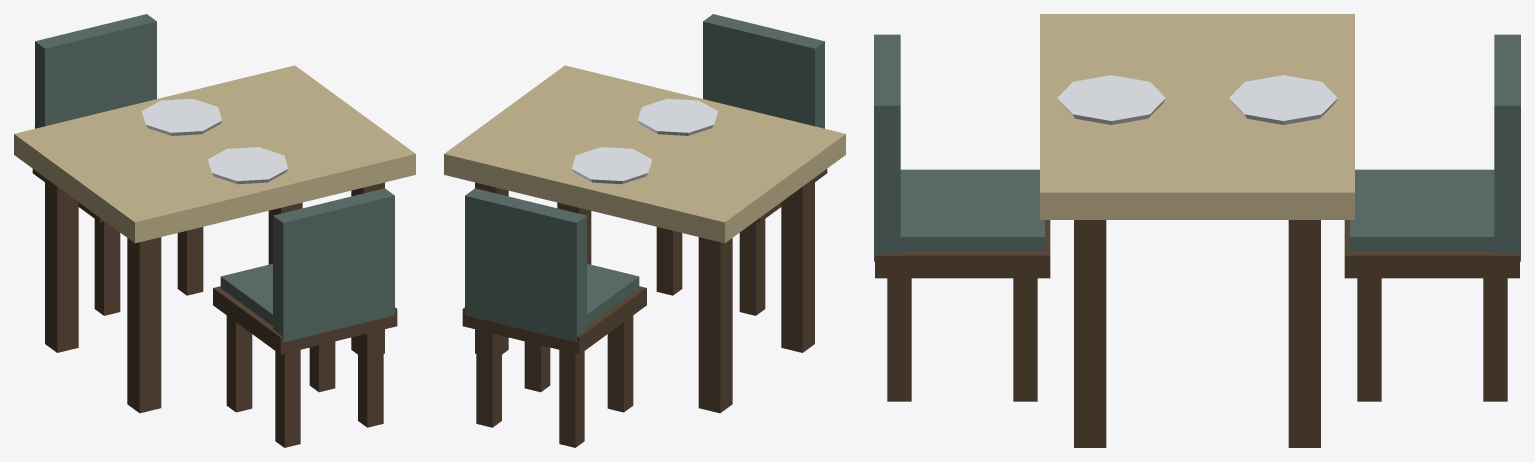
File: prop-dining-table.glb
3 renders of one model, left to right at view 1: azimuth 30°, elevation 25°; view 2: azimuth 150°, elevation 25°; view 3: azimuth 270°, elevation 25°, orthographic. The views are drawn at different scales.
Parts seen in each view (by area): view 1: timber_tabletop, chair_back_-1, chair_back_1, table_leg_-0.235_-0.15, table_leg_-0.235_0.15, chair_seat_-1, chair_leg_-1_-0.087_-0.088, chair_leg_-1_0.087_-0.088, chair_leg_1_-0.087_-0.088, place_setting_1, place_setting_-1, chair_leg_-1_-0.087_0.088 (+4 smaller); view 2: timber_tabletop, chair_back_1, chair_back_-1, table_leg_-0.235_0.15, table_leg_-0.235_-0.15, chair_seat_1, chair_leg_1_-0.087_0.088, chair_leg_1_0.087_0.088, chair_leg_-1_-0.087_0.088, place_setting_-1, place_setting_1, chair_leg_1_-0.087_-0.088 (+4 smaller); view 3: timber_tabletop, seat_pad_-1, seat_pad_1, table_leg_0.235_-0.15, table_leg_0.235_0.15, chair_back_-1, chair_back_1, chair_seat_-1, chair_seat_1, place_setting_-1, place_setting_1, chair_leg_-1_0.087_-0.088 (+3 smaller).
Boxes of the visible parts, box(x1,y1,x2,y2) form: timber_tabletop: box(14, 65, 415, 243); chair_back_-1: box(273, 188, 394, 342); chair_back_1: box(35, 14, 156, 128); table_leg_-0.235_-0.15: box(127, 237, 161, 413); table_leg_-0.235_0.15: box(45, 178, 78, 352); chair_seat_-1: box(213, 286, 397, 354); chair_leg_-1_-0.087_-0.088: box(275, 350, 300, 447); chair_leg_-1_0.087_-0.088: box(358, 329, 383, 427); chair_leg_1_-0.087_-0.088: box(94, 219, 120, 315); place_setting_1: box(141, 98, 222, 135); place_setting_-1: box(207, 147, 288, 184); chair_leg_-1_-0.087_0.088: box(226, 315, 252, 412); timber_tabletop: box(444, 65, 845, 243); chair_back_1: box(465, 188, 586, 342); chair_back_-1: box(703, 14, 824, 128); table_leg_-0.235_0.15: box(698, 237, 732, 413); table_leg_-0.235_-0.15: box(781, 178, 814, 352); chair_seat_1: box(462, 286, 646, 354); chair_leg_1_-0.087_0.088: box(559, 350, 584, 447); chair_leg_1_0.087_0.088: box(476, 329, 501, 427); chair_leg_-1_-0.087_0.088: box(739, 219, 765, 315); place_setting_-1: box(637, 98, 718, 135); place_setting_1: box(571, 147, 652, 184); chair_leg_1_-0.087_-0.088: box(607, 315, 633, 412); timber_tabletop: box(1040, 14, 1354, 219); seat_pad_-1: box(900, 169, 1044, 251); seat_pad_1: box(1350, 169, 1494, 251); table_leg_0.235_-0.15: box(1074, 220, 1106, 447); table_leg_0.235_0.15: box(1288, 220, 1320, 447); chair_back_-1: box(874, 34, 900, 261); chair_back_1: box(1494, 34, 1520, 261); chair_seat_-1: box(875, 220, 1050, 278); chair_seat_1: box(1344, 220, 1519, 278); place_setting_-1: box(1057, 75, 1165, 124); place_setting_1: box(1229, 75, 1337, 124); chair_leg_-1_0.087_-0.088: box(887, 278, 911, 401).
Bounding box in the file's own units: 0.59 × 0.462 × 0.903.
